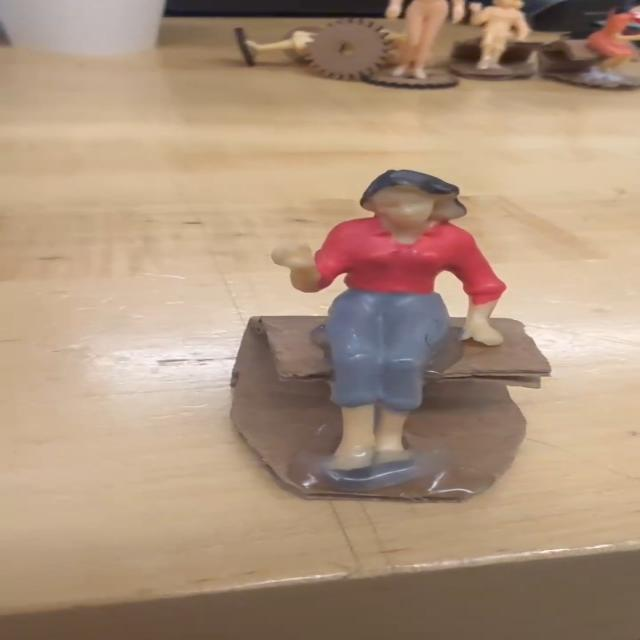Authorized: (276, 166, 504, 491)
